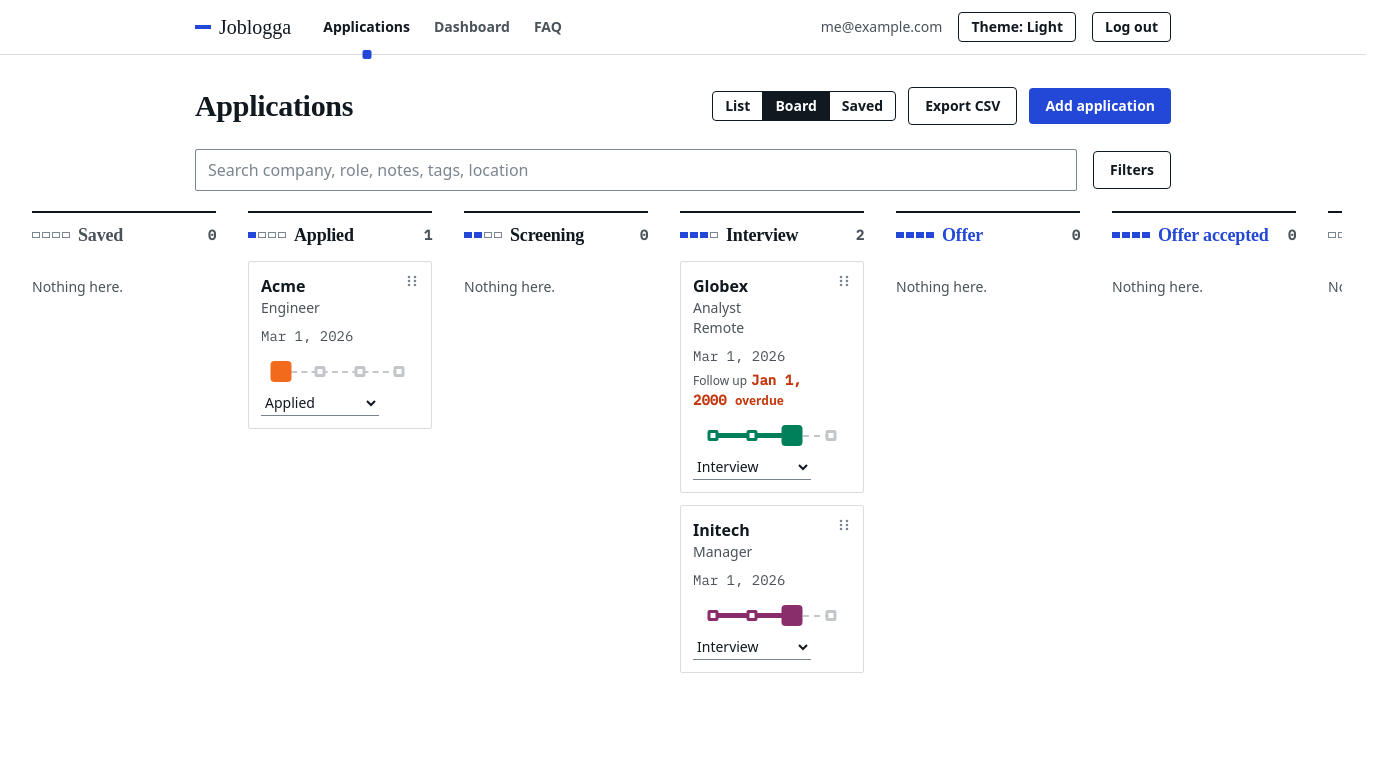
Test case: switching between list and board › goes back to the list
Expected: the element named "Applied," is shown, [248, 211, 432, 429]
Click the button "List": click(738, 106) [712, 91, 763, 121]
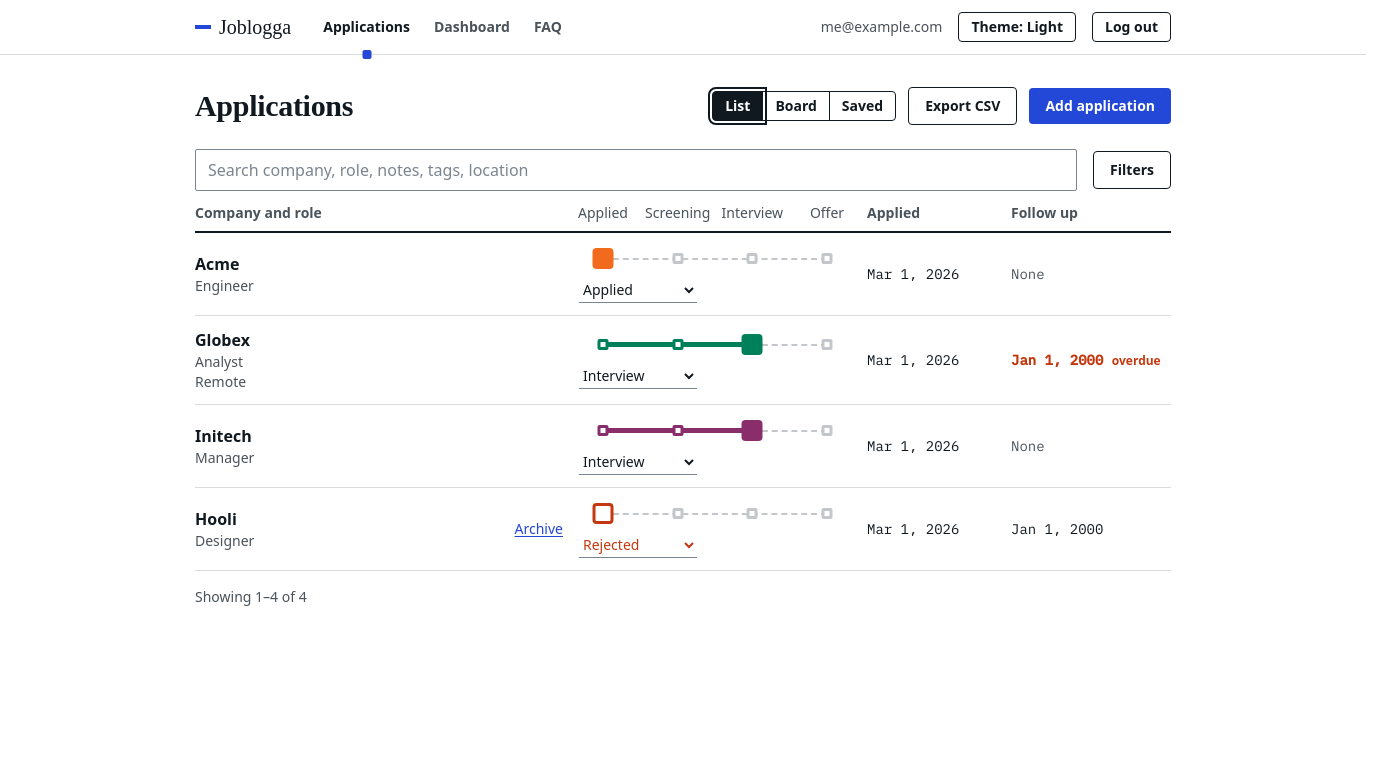
Expected: the text "Company and role" is shown, [195, 203, 322, 222]
